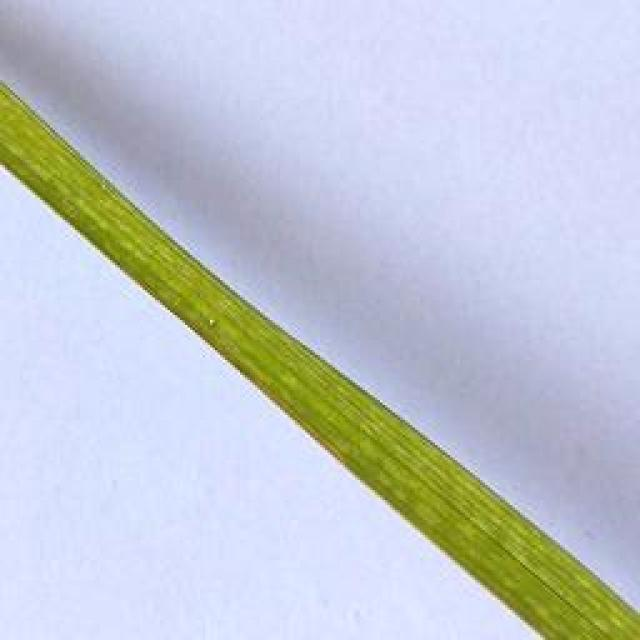Unhealthy: (206, 317, 217, 327)
